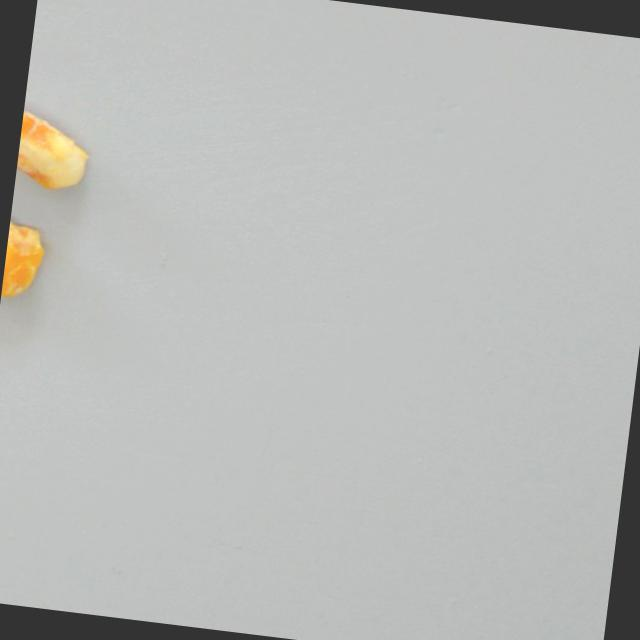dañado: (14, 103, 95, 192)
pelicula: (0, 210, 50, 308)
